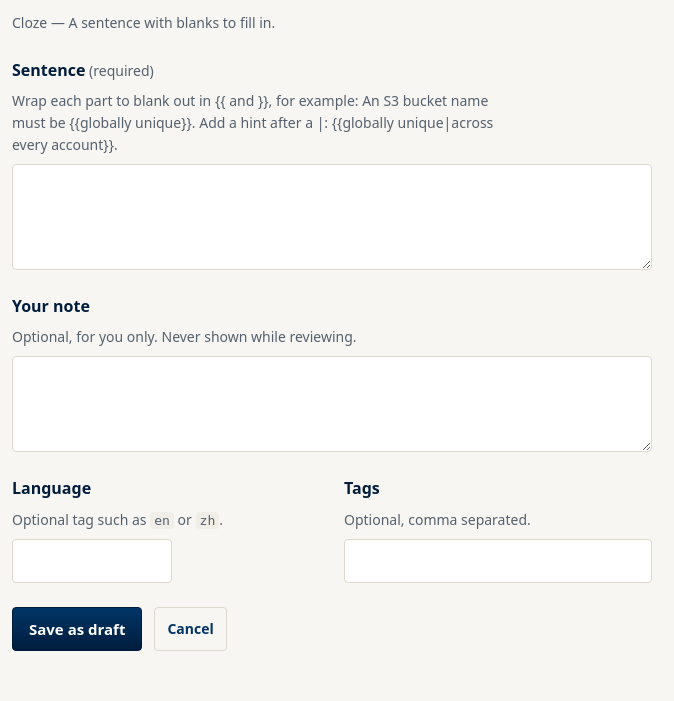
Test case: FlashcardForm › reports a cloze sentence with no deletion, which the schema alone would accept
Step 1. Type "An S3 bucket name must be globally unique." into the text box labelled "Sentence (required)" → (332, 216), box top-left (12, 164), bottom-right (652, 270)
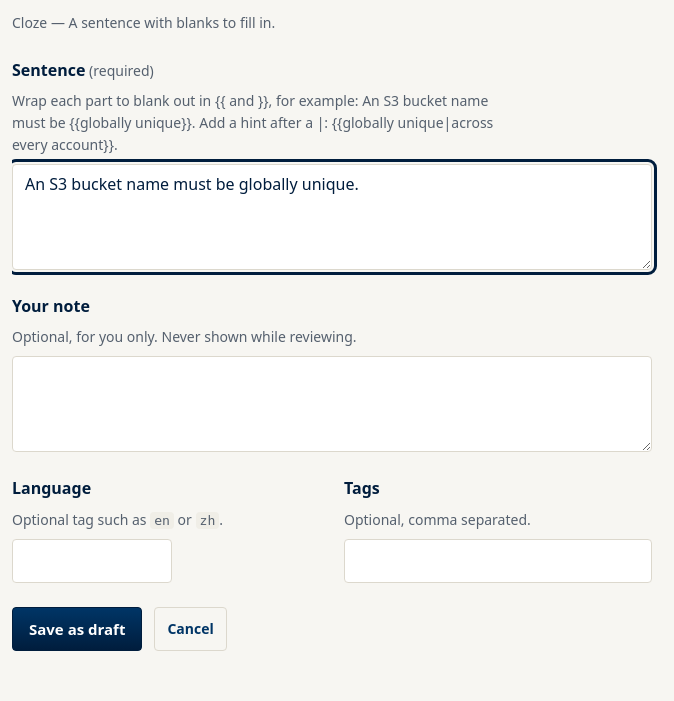
Step 2. Click the button "Save as draft" → (77, 629), box top-left (12, 607), bottom-right (142, 651)
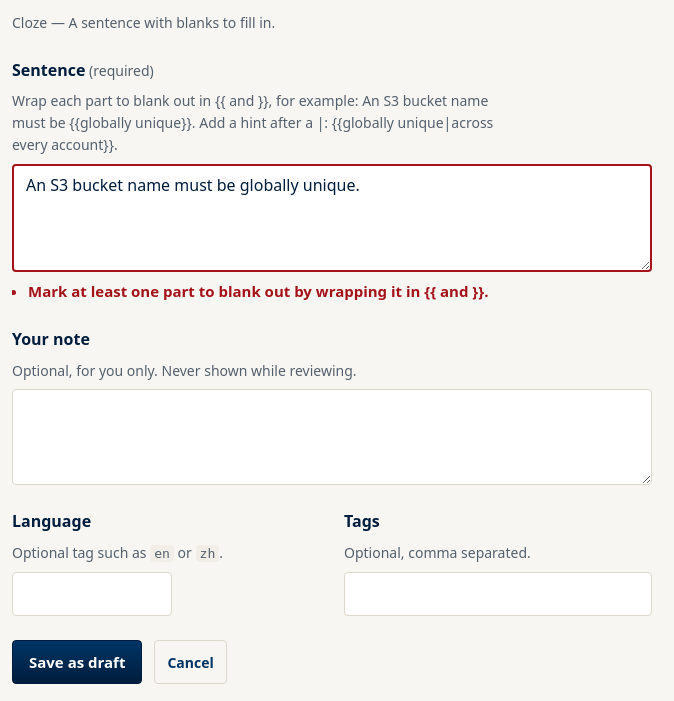
expect the message shows "{{": met, box top-left (28, 280), bottom-right (488, 300)
